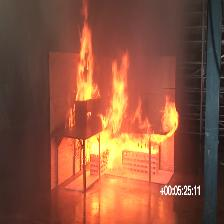fire: (86, 49, 178, 169), (76, 1, 99, 100)
